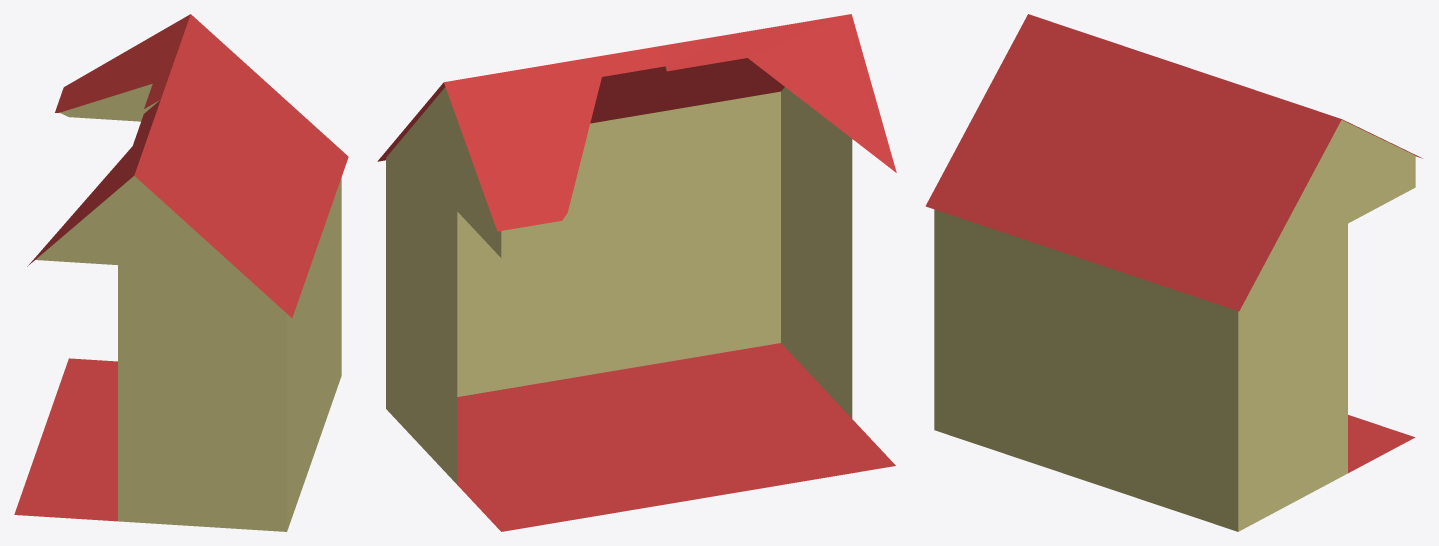
3 renders of one model, left to right at view 1: azimuth 30°, elevation 25°; view 2: azimuth 150°, elevation 25°; view 3: azimuth 270°, elevation 25°, orthographic. The views are drawn at different scales.
Size of the model in its own units: 18.63 by 19.64 by 15.7.
